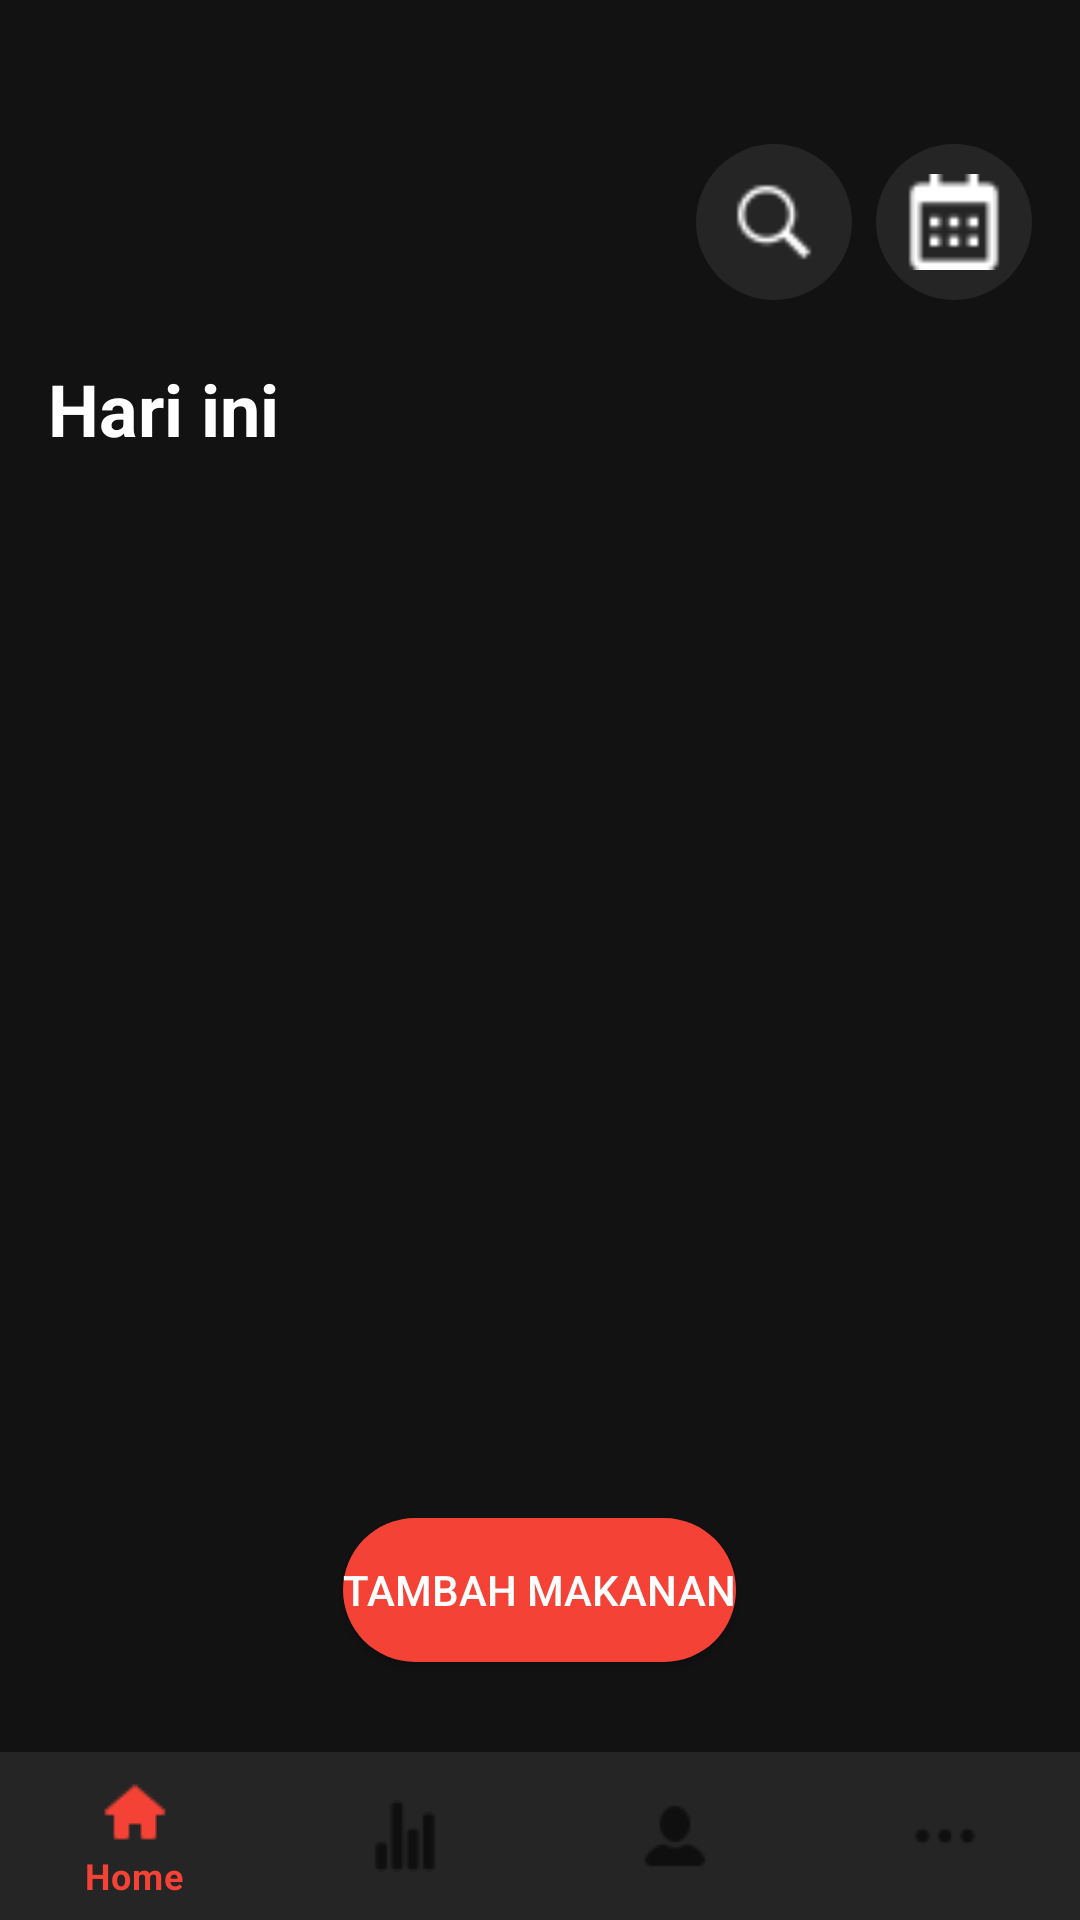

Where to tap for icons on this 1080 x 1920 app screen, as [x,y]:
Calendar: [954,222]
Search: [773,221]
